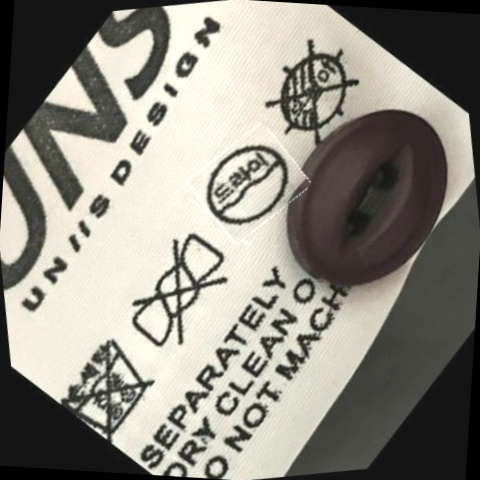DN_dry: (257, 37, 368, 149)
DN_wring: (117, 231, 242, 356)
dry_clean: (199, 133, 299, 237)
hand_wash: (57, 326, 162, 440)
